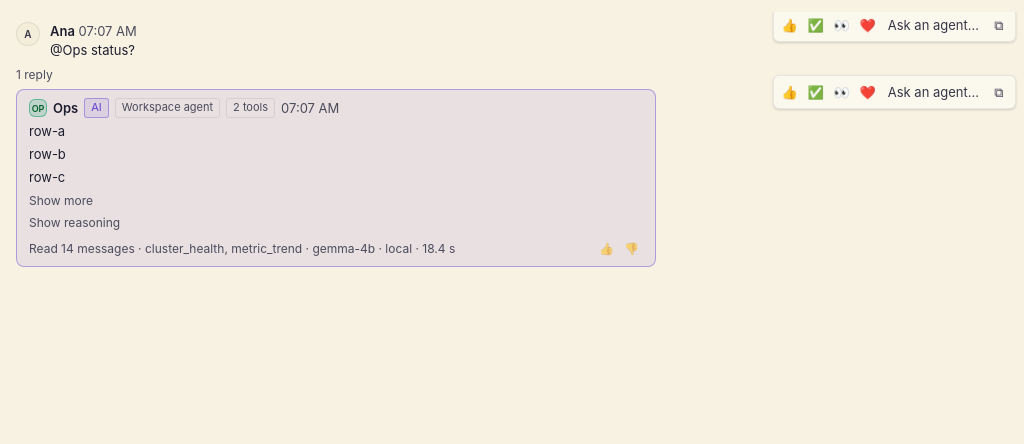
Test: collapses an answer over 8 lines to its first 3 lines until Show more
This screenshot has width=1024, height=444.
Check: the text "row-c" is shown, box [29,169,65,185]
Check: the text "row-d" is not shown
Click the button "Show more". click: point(61, 200)
box: [29,192,93,209]
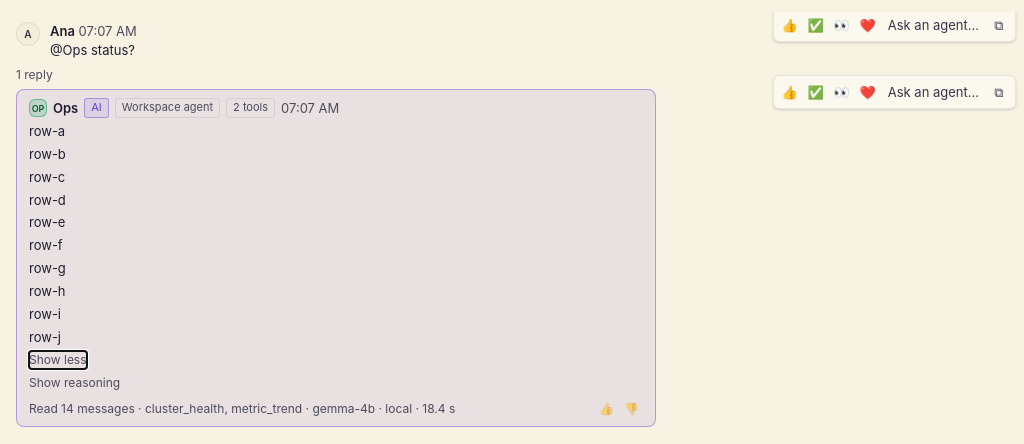
Check: the text "row-j" is shown, box [29,329,61,345]
